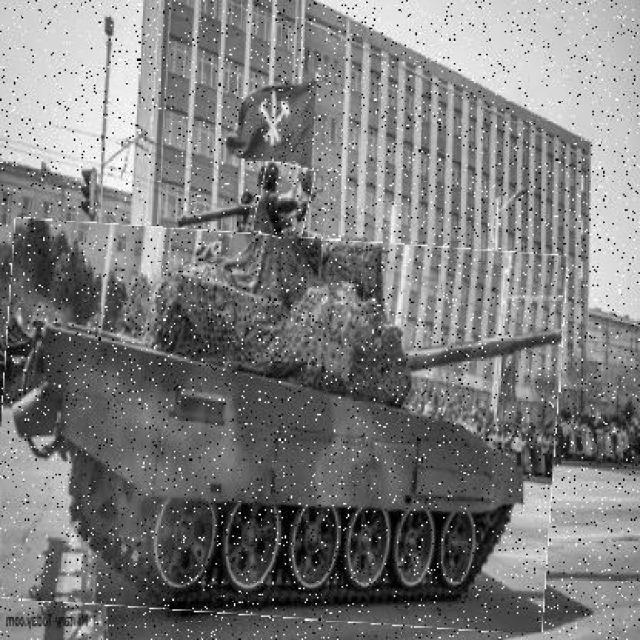Person: (257, 164, 314, 240)
Tank: (3, 227, 563, 627)
